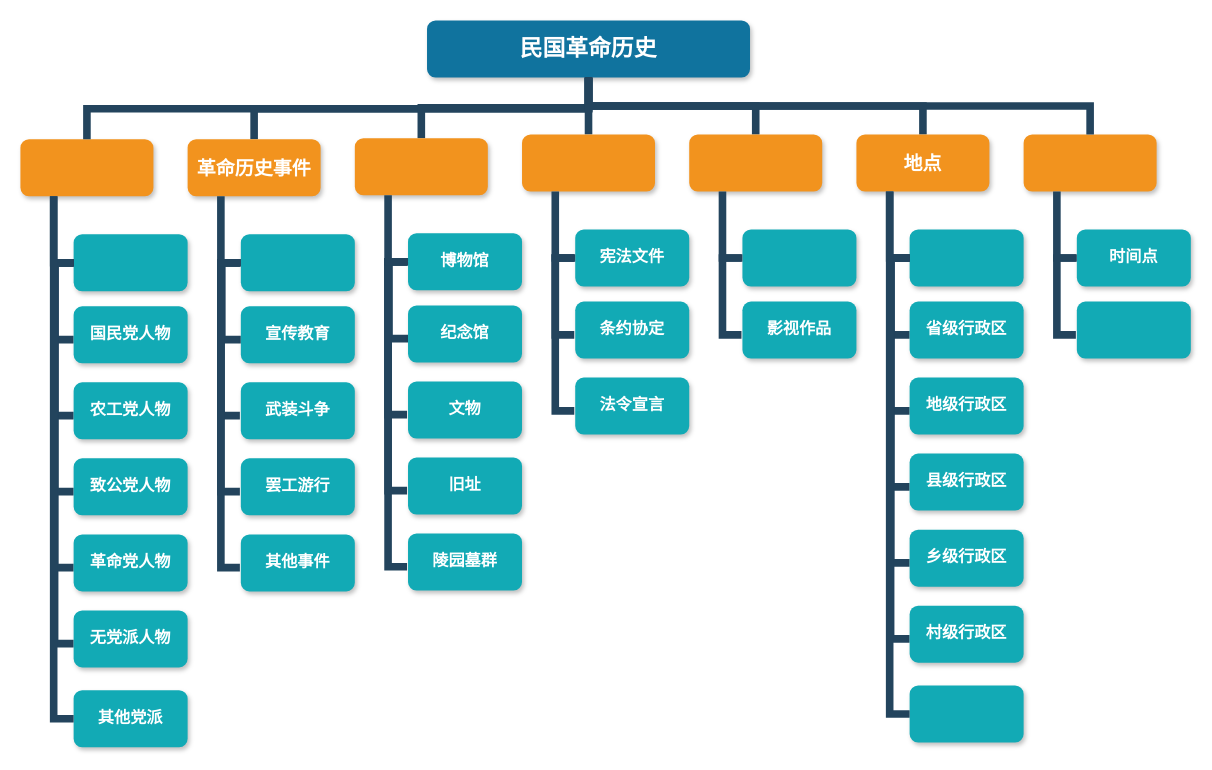
The diagram is 1212 pixels wide and 770 high, and some of its shapes have lost their labels. Here are the shapes that lost their labels. From the top down, the centre of each, then its label:
At point 87,168: "历史人物".
At point 422,167: "旧址文物".
At point 589,164: "文书条款".
At point 756,164: "文艺作品".
At point 1090,164: "时间".
At point 131,263: "共产党人物".
At point 298,263: "会议".
At point 800,259: "图文书籍".
At point 967,259: "国家".
At point 1134,331: "时间段".
At point 967,715: "区域".
